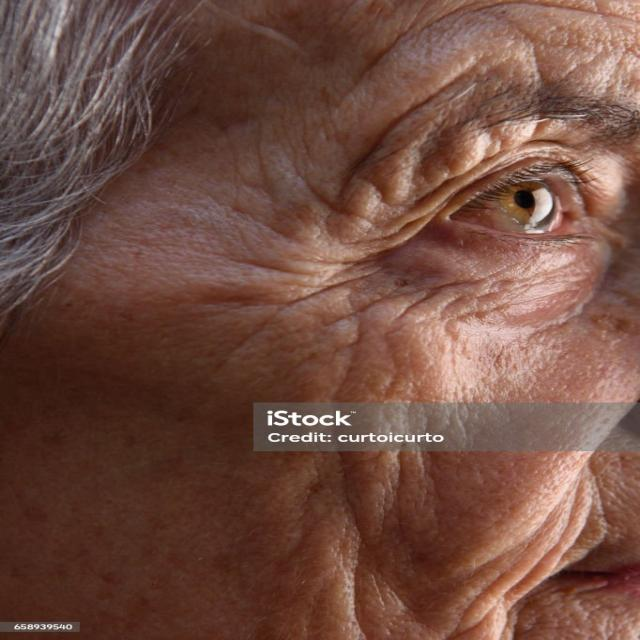Dry-Skin: (28, 415, 427, 640), (129, 58, 347, 386), (375, 346, 596, 556), (427, 0, 640, 147), (305, 467, 462, 563)
